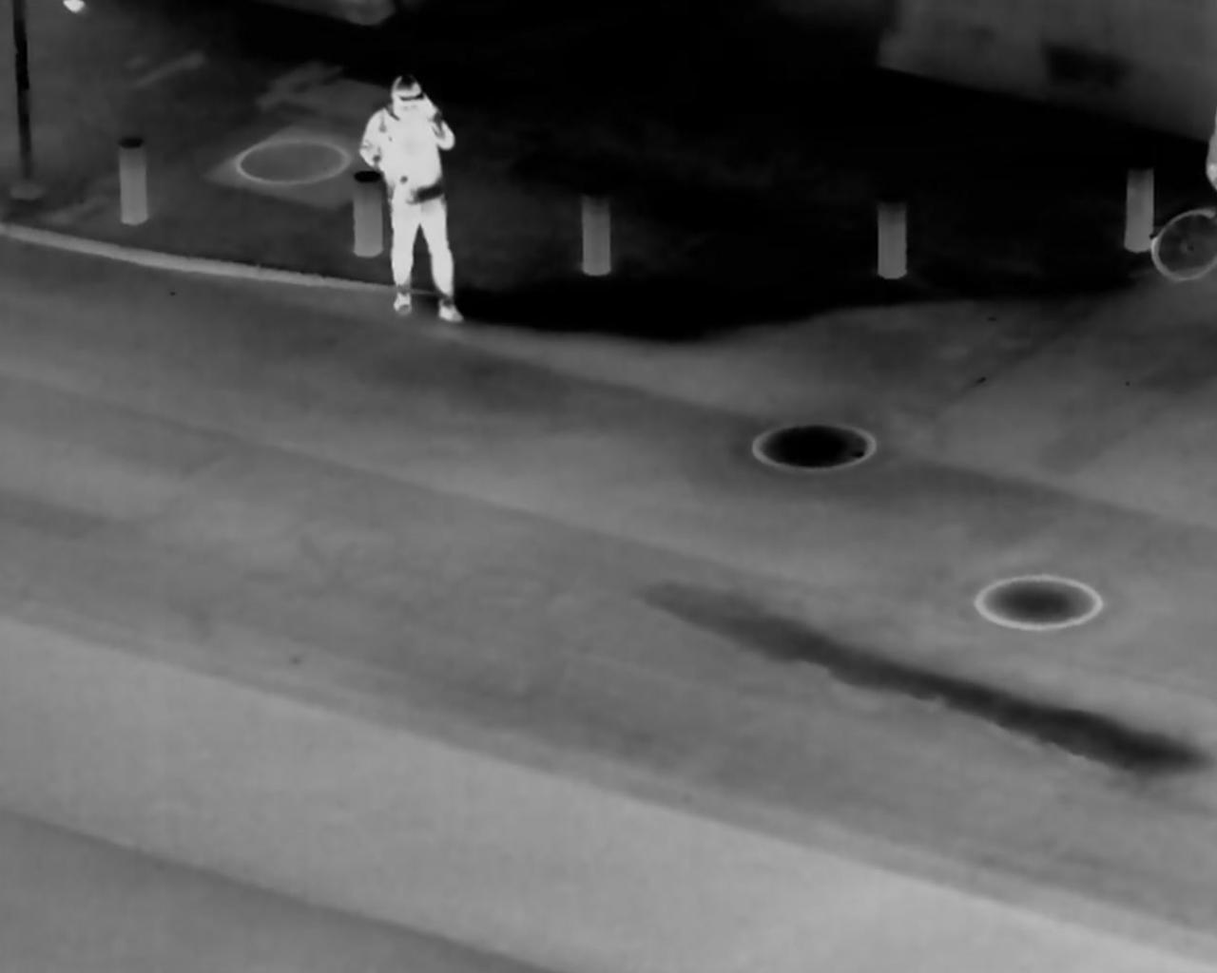person: (365, 74, 464, 332)
